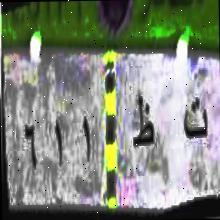1: (77, 109, 96, 173), (51, 112, 67, 173)
6: (22, 115, 40, 180)
Thaa: (131, 88, 156, 163)
taa: (180, 88, 209, 151)
